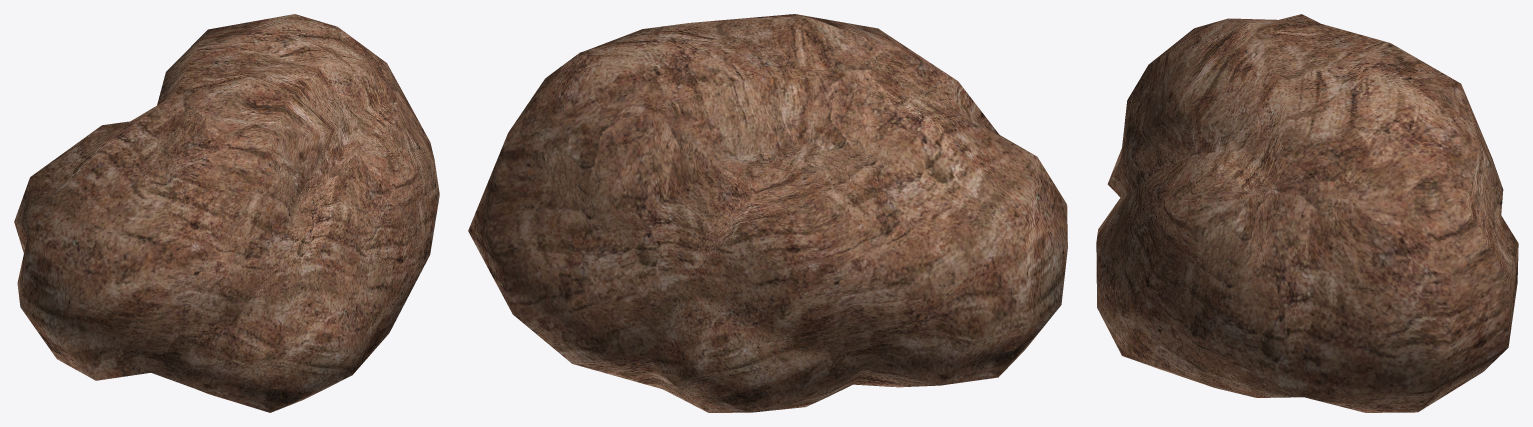
Rendered from rock_dath_desertboulder_a2_l0.fbx.
The picture shows the model from 3 angles, left to right: view 1: azimuth 30°, elevation 25°; view 2: azimuth 150°, elevation 25°; view 3: azimuth 270°, elevation 25°; orthographic projection. The views are drawn at different scales.
Parts seen in each view (by area): view 1: mesh_node; view 2: mesh_node; view 3: mesh_node.
Boxes of the visible parts, box(x1,y1,x2,y2) form: mesh_node: box(14, 14, 439, 412); mesh_node: box(468, 14, 1067, 412); mesh_node: box(1096, 14, 1518, 412).
Bounding box in the file's own units: 1.83 × 1.25 × 1.4.
